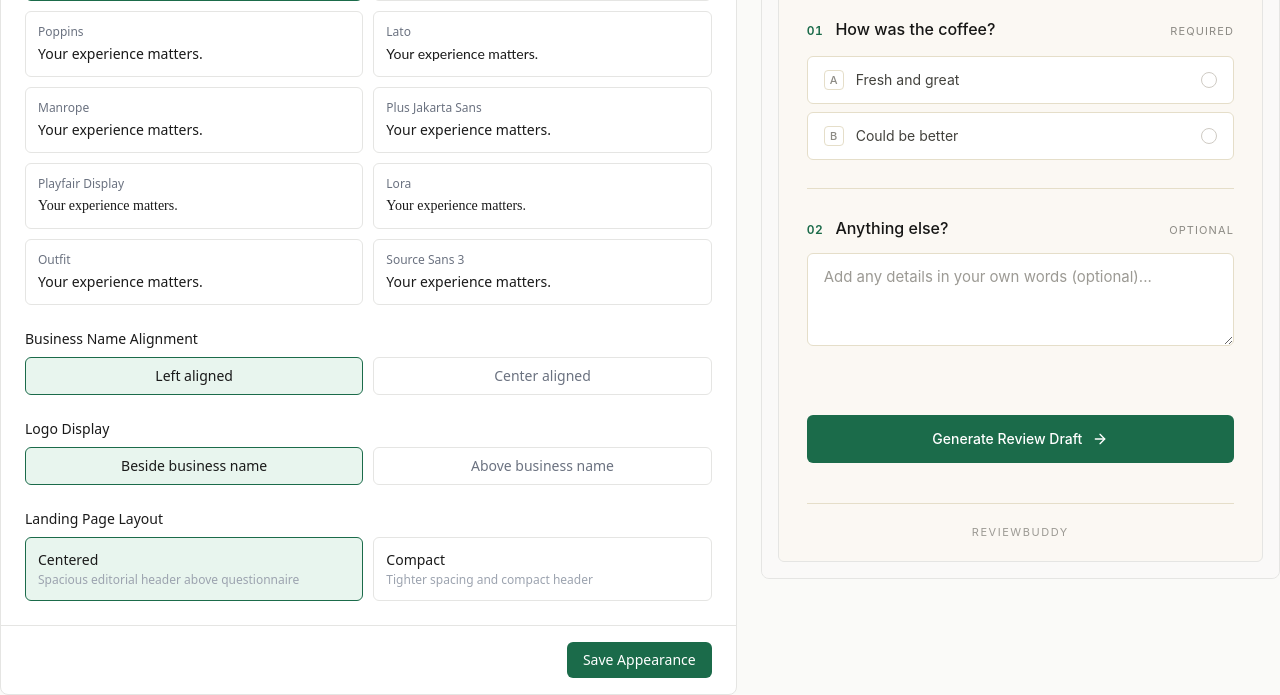
Test case: ReviewBuddy Frontend V1 Regression Tests › 3. LandingPageAppearanceTab displays error on failed save and omits saved notice
(page scrolled)
Click the button "Save Appearance". click: (639,660)
box: [567,642,712,678]
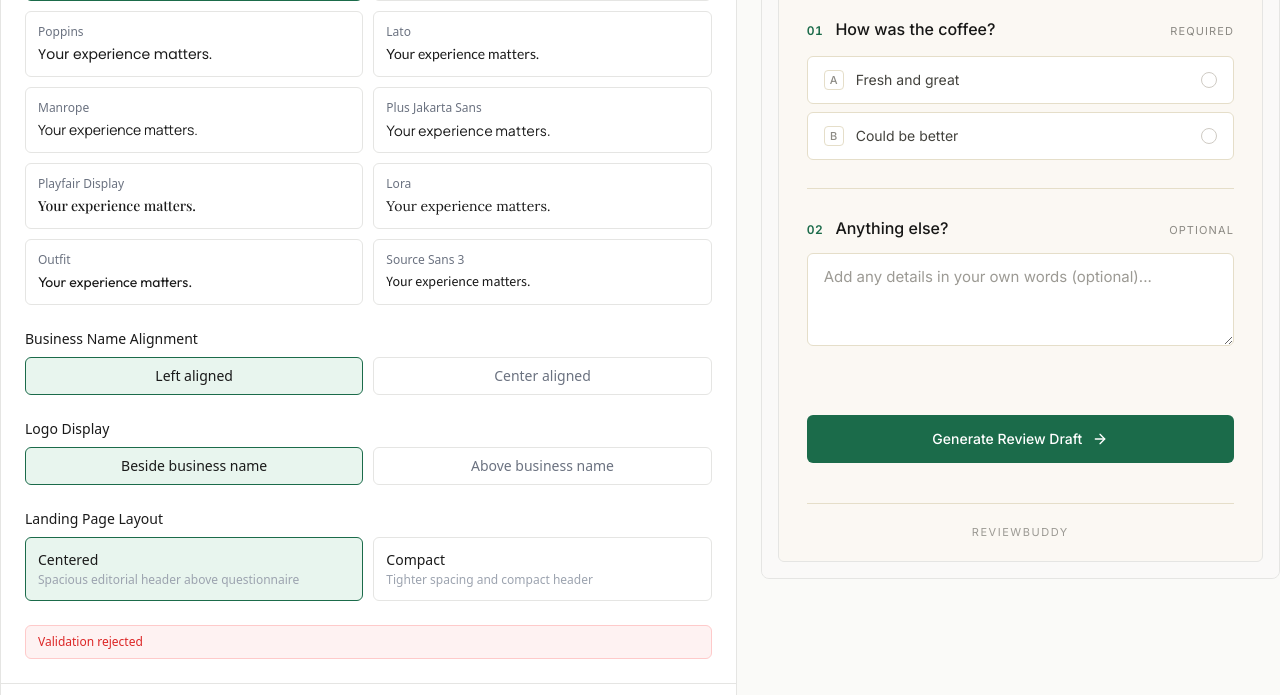
expect the message reads "Validation rejected": met, box [38,633,143,650]
